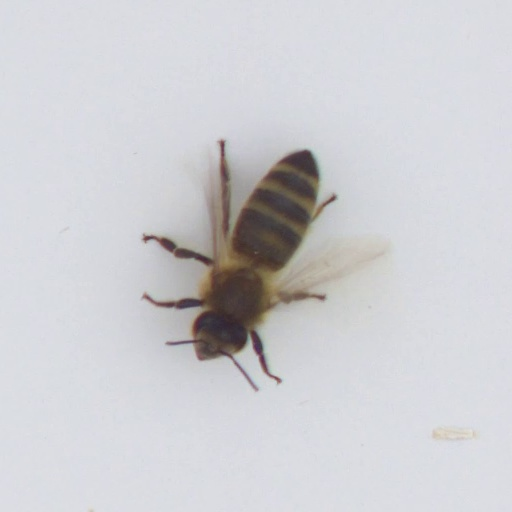Bee: (167, 131, 359, 383)
Thorax: (204, 263, 276, 325)
